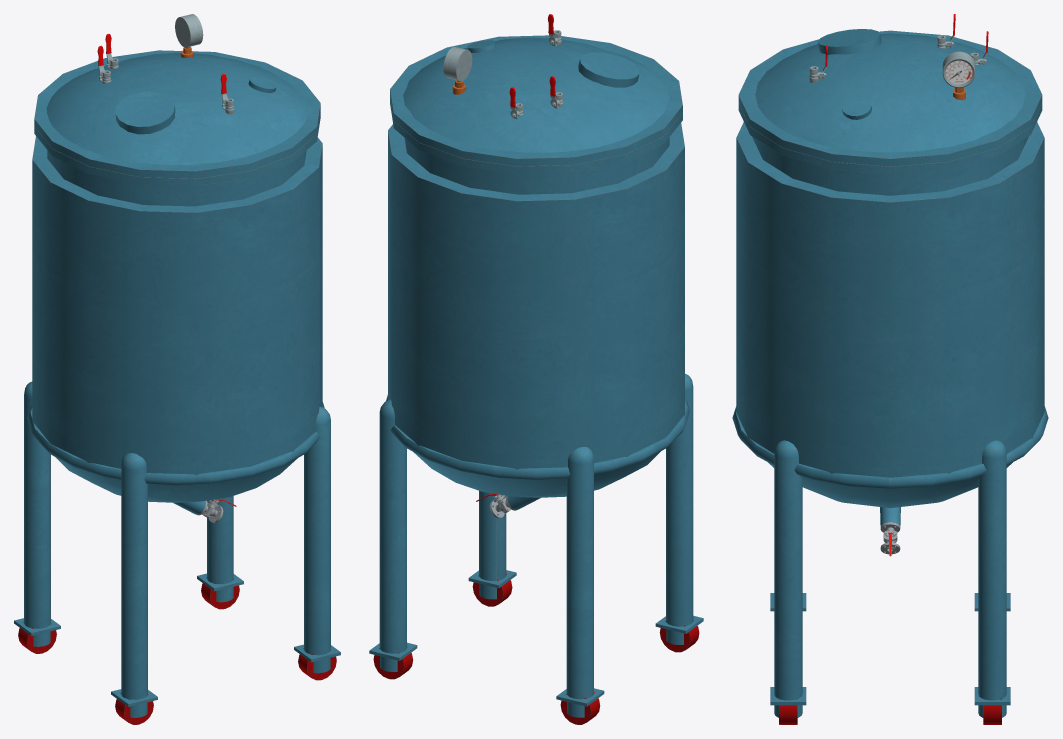
3 renders of one model, left to right at view 1: azimuth 30°, elevation 25°; view 2: azimuth 150°, elevation 25°; view 3: azimuth 270°, elevation 25°, orthographic. The views are drawn at different scales.
Parts seen in each view (by area): view 1: Reactor3, PressureGauge; view 2: Reactor3, PressureGauge; view 3: Reactor3, PressureGauge.
Boxes of the visible parts, <box> form: Reactor3: <box>14,50,340,724</box>; PressureGauge: <box>175,14,203,57</box>; Reactor3: <box>369,35,703,724</box>; PressureGauge: <box>443,47,472,94</box>; Reactor3: <box>732,29,1048,724</box>; PressureGauge: <box>942,51,975,100</box>.
Bounding box in the file's own units: 18.85 × 42.39 × 18.85.
Materials: 5 (4 with a texture image).
